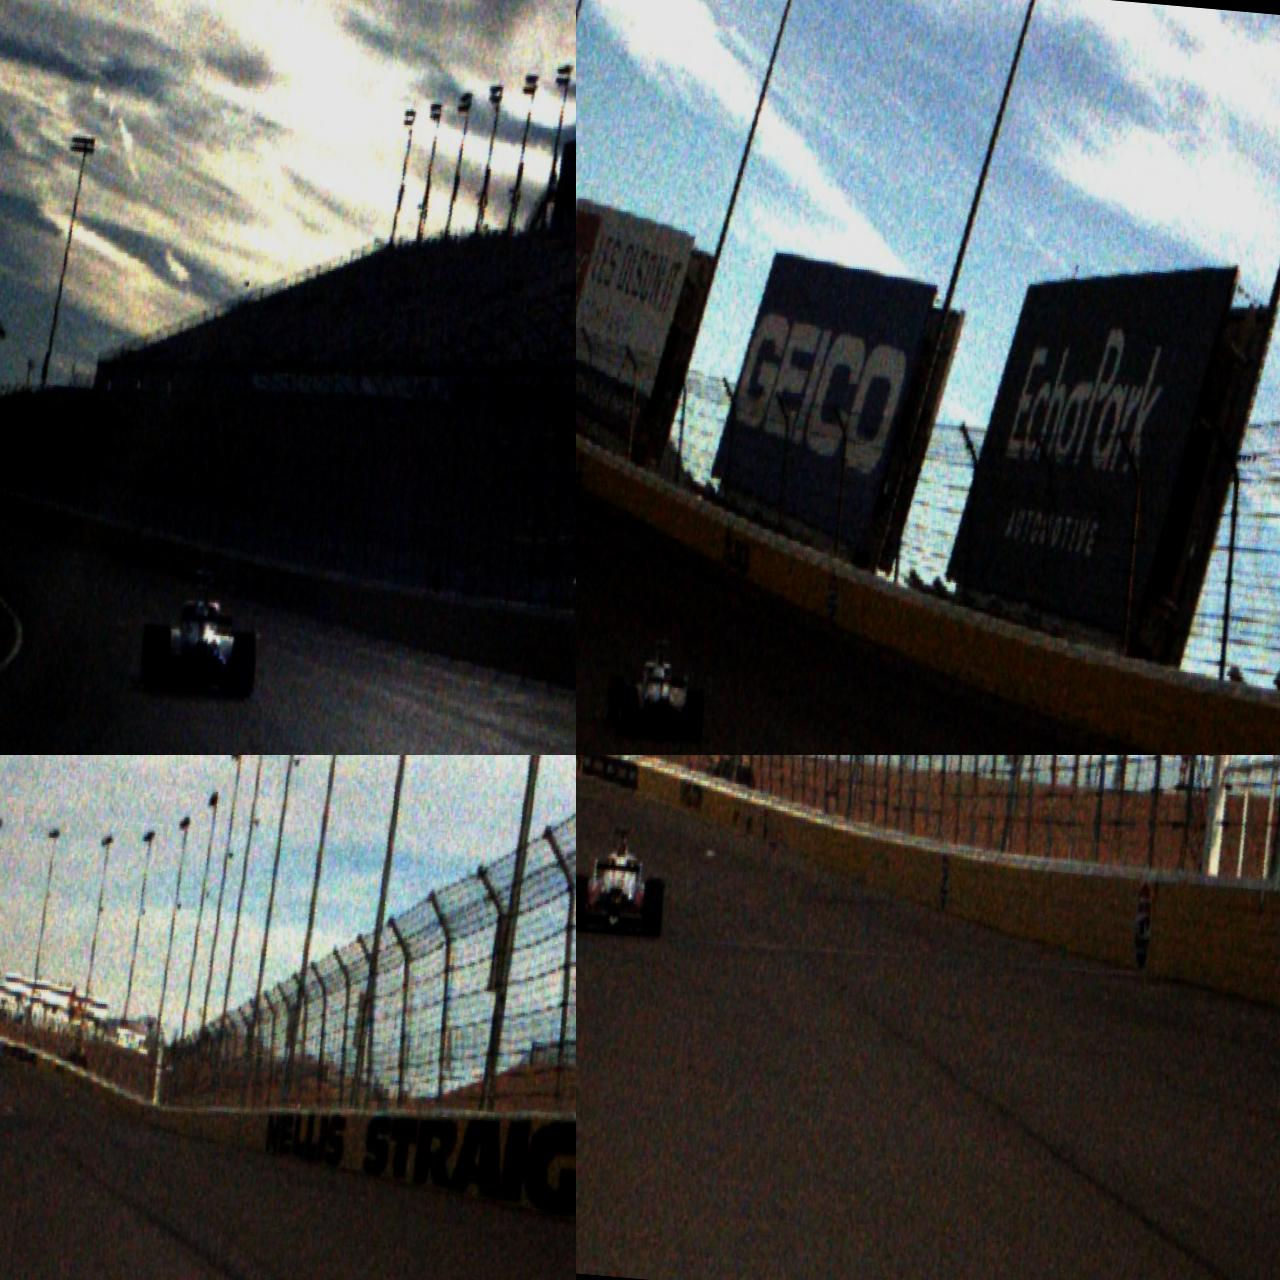AV: (137, 564, 264, 702), (604, 632, 710, 744), (576, 824, 670, 939)
Wheel: (144, 627, 172, 694), (231, 632, 258, 701), (640, 877, 666, 939), (683, 689, 706, 743), (617, 687, 639, 737), (606, 676, 625, 724), (576, 874, 588, 931)
